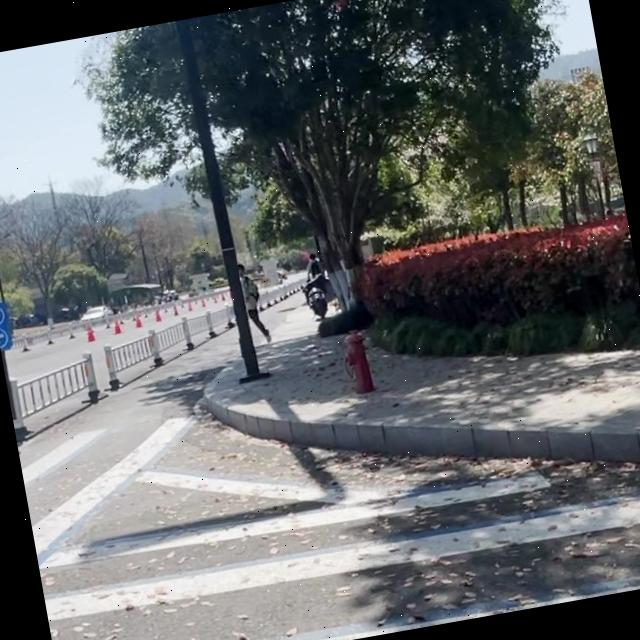curb: (198, 381, 640, 461)
